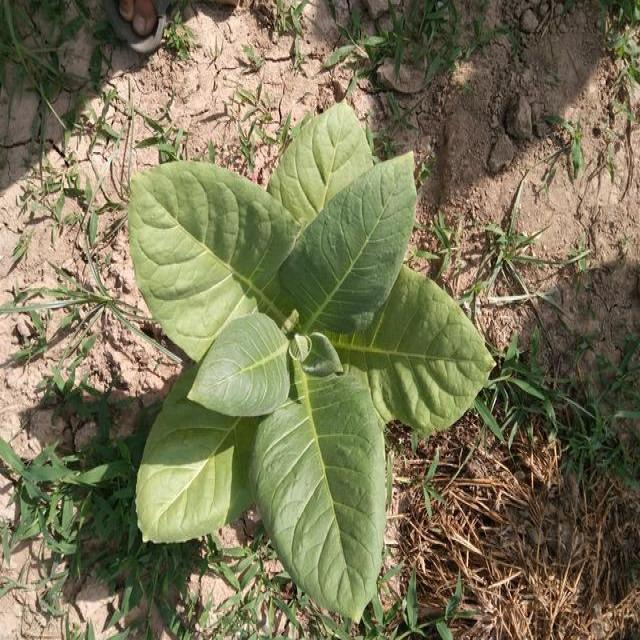crop: (120, 89, 490, 623)
